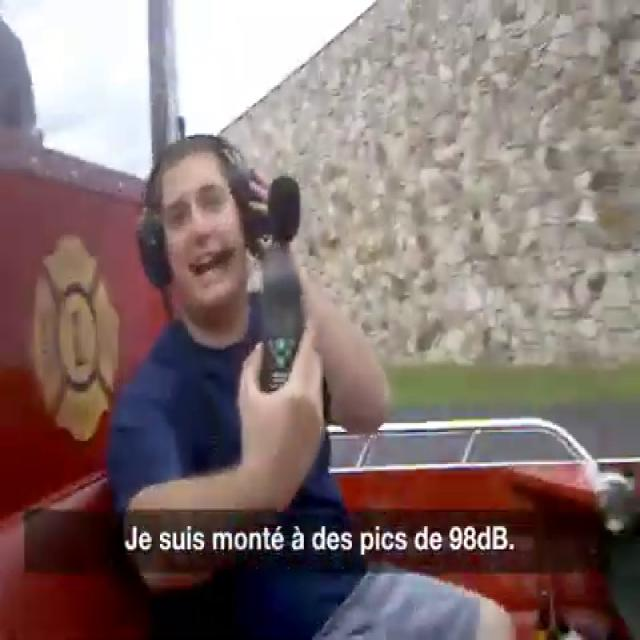earmuff: (133, 205, 176, 292)
